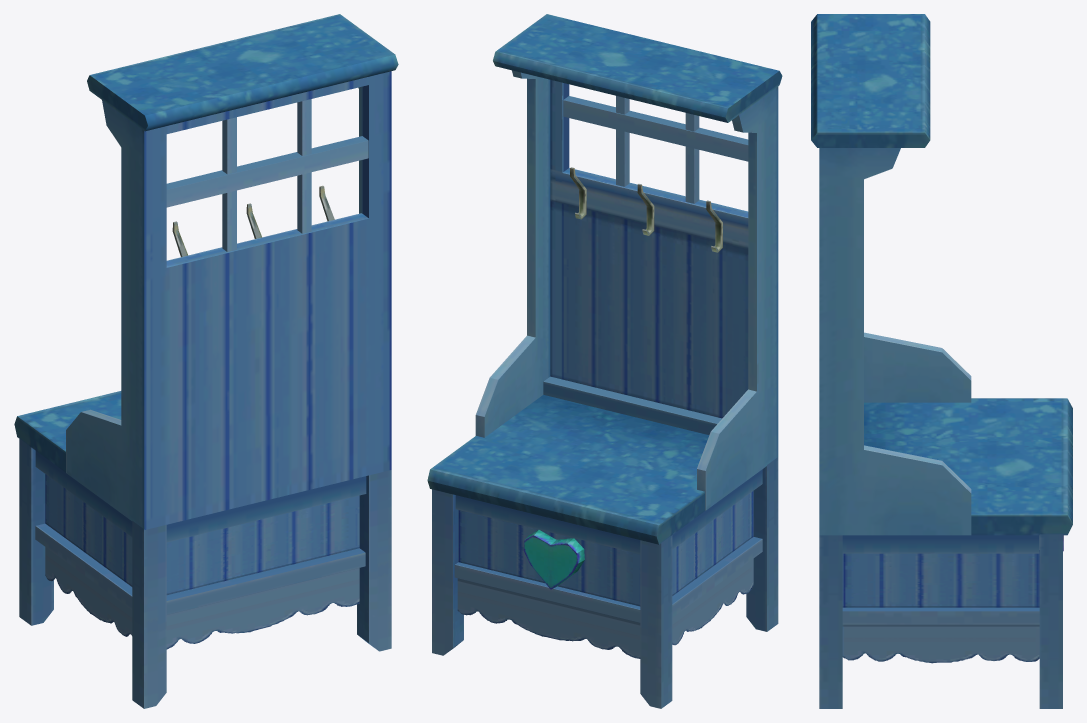
Rendered from furni_0200021_03.FBX.
3 views of the same model, side by side, from view 1: azimuth 30°, elevation 25°; view 2: azimuth 150°, elevation 25°; view 3: azimuth 270°, elevation 25° (orthographic). The views are drawn at different scales.
Visible parts, largest first — view 1: furni_0200021_03; view 2: furni_0200021_03; view 3: furni_0200021_03.
Boxes of the visible parts, x1,y1,x2,y2 form: furni_0200021_03: (14, 14, 398, 708); furni_0200021_03: (427, 14, 782, 708); furni_0200021_03: (811, 14, 1072, 708).
Bounding box in the file's own units: 79.83 × 181 × 74.33.
